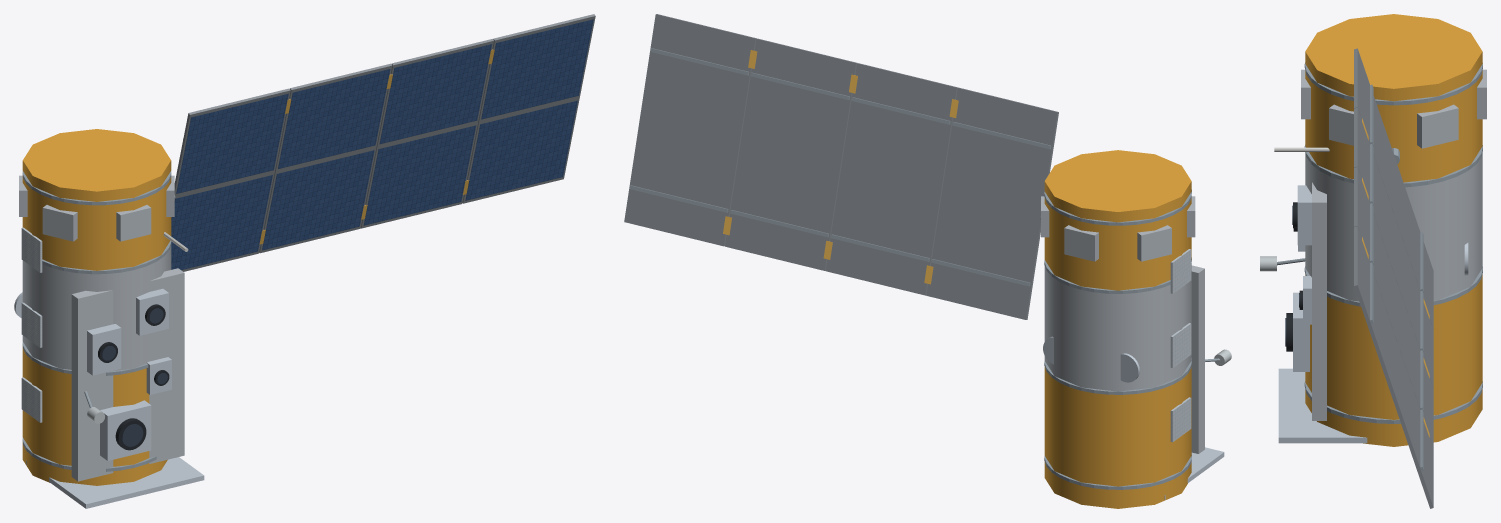
Rendered from noaa-klm.glb.
The picture shows the model from 3 angles, left to right: view 1: azimuth 30°, elevation 25°; view 2: azimuth 150°, elevation 25°; view 3: azimuth 270°, elevation 25°; orthographic projection. The views are drawn at different scales.
Visible parts, largest first — view 1: Solar cell strings (×8), Reaction control module, Instrument mounting tray, Solar panel substrate (×4), Instrument mounting platform, Equipment support module, Instrument sun shield, Thermal louver panel (×3), Aft equipment pack (×2), AVHRR scanning radiometer housing, Bus flange (×2), AMSU-A housing (+2 smaller); view 2: Solar panel substrate (×4), Equipment support module, Reaction control module, Instrument mounting platform, Instrument mounting tray, Bus flange (×3), Thermal louver panel (×3), Aft equipment pack (×2); view 3: Reaction control module, Solar panel substrate (×4), Equipment support module, Instrument mounting platform, Instrument mounting tray, Aft equipment pack (×4), Bus flange (×4), Instrument sun shield, AVHRR scanning radiometer housing, Infrared sounder housing, AMSU-B housing, Data collection antenna (+2 smaller).
Boxes of the visible parts, x1,y1,x2,y2 form: Solar cell strings (×8): (171, 19, 593, 270); Reaction control module: (22, 129, 171, 270); Instrument mounting tray: (71, 268, 184, 481); Solar panel substrate (×4): (171, 14, 595, 271); Instrument mounting platform: (22, 246, 171, 370); Equipment support module: (22, 347, 167, 485); Instrument sun shield: (26, 457, 204, 508); Thermal louver panel (×3): (21, 227, 42, 422); Aft equipment pack (×2): (42, 205, 151, 241); AVHRR scanning radiometer housing: (100, 400, 151, 460); Bus flange (×2): (22, 171, 171, 274); AMSU-A housing: (87, 324, 121, 375); Solar panel substrate (×4): (624, 14, 1058, 319); Equipment support module: (1044, 367, 1191, 508); Reaction control module: (1044, 150, 1191, 290); Instrument mounting platform: (1044, 266, 1191, 391); Instrument mounting tray: (1191, 265, 1204, 453); Bus flange (×3): (1044, 189, 1191, 489); Thermal louver panel (×3): (1170, 249, 1191, 442); Aft equipment pack (×2): (1064, 225, 1171, 261); Reaction control module: (1305, 14, 1482, 182); Solar panel substrate (×4): (1354, 48, 1433, 508); Equipment support module: (1305, 275, 1482, 446); Instrument mounting platform: (1305, 153, 1482, 301); Instrument mounting tray: (1312, 182, 1326, 420); Aft equipment pack (×4): (1301, 69, 1486, 148); Bus flange (×4): (1304, 62, 1482, 423); Instrument sun shield: (1278, 368, 1367, 443); AVHRR scanning radiometer housing: (1293, 292, 1309, 371); Infrared sounder housing: (1297, 185, 1311, 245); AMSU-B housing: (1303, 276, 1311, 324); Data collection antenna: (1274, 147, 1329, 151).
Bounding box in the file's own units: 8.02 × 4.75 × 2.41.
Materials: 12 (2 with a texture image).
